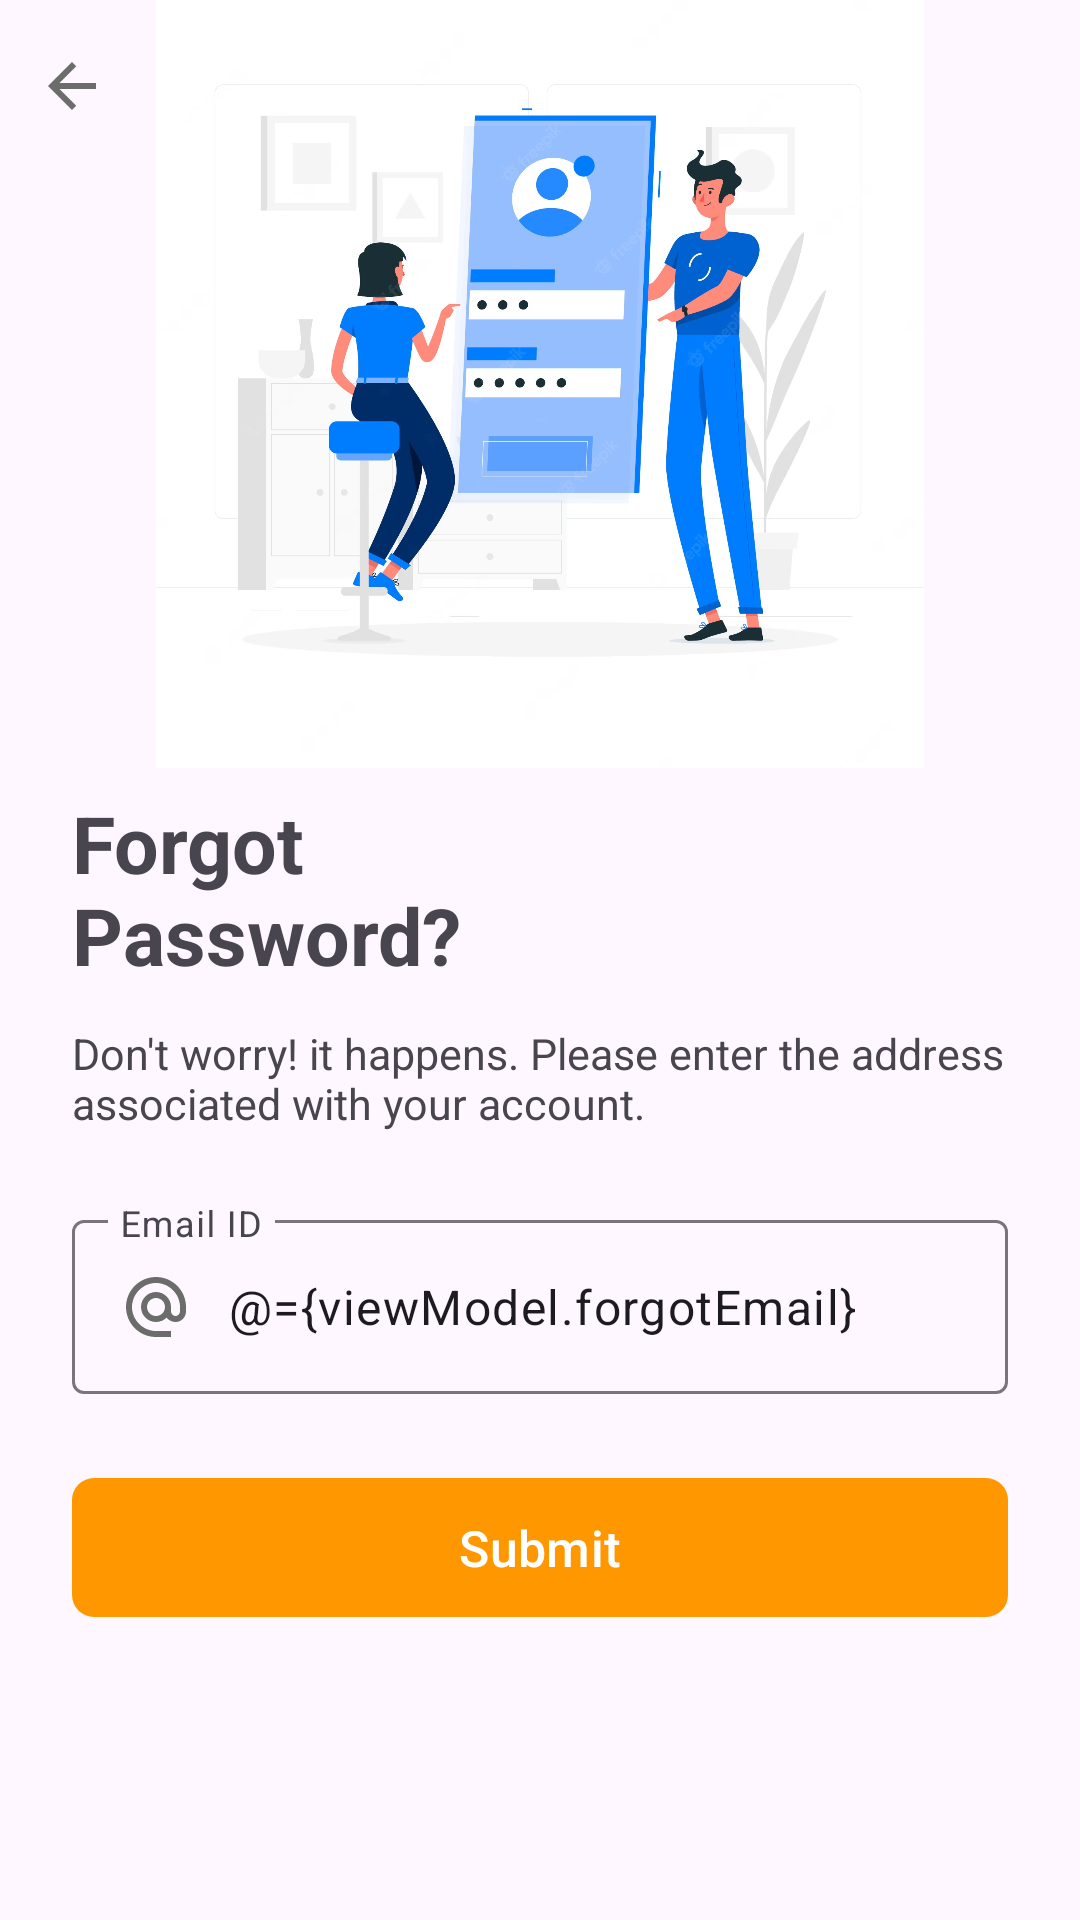

Point at icon controls on the screen. Image size 1080 x 1920, points as (x=x, y=y).
back arrow: (x=72, y=86)
